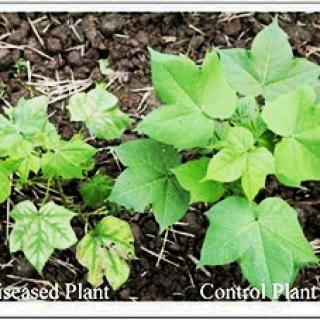wilt: (82, 235, 133, 291)
